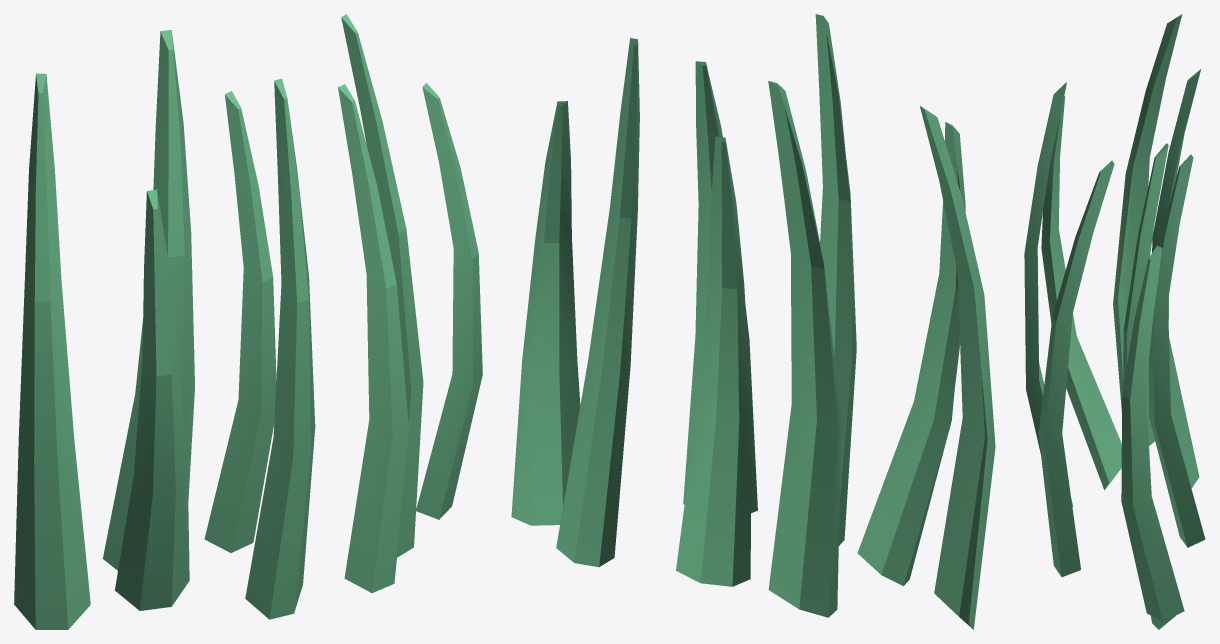
Rendered from grass.fbx.
The picture shows the model from 3 angles, left to right: view 1: azimuth 30°, elevation 25°; view 2: azimuth 150°, elevation 25°; view 3: azimuth 270°, elevation 25°; orthographic projection. The views are drawn at different scales.
Visible parts, largest first — view 1: polySurface10; view 2: polySurface10; view 3: polySurface10.
Boxes of the visible parts, x1=… form: polySurface10: x1=14, y1=14, x2=482, y2=629; polySurface10: x1=511, y1=14, x2=995, y2=629; polySurface10: x1=1024, y1=14, x2=1205, y2=629.
Size of the model in its own units: 5.28 by 6.1 by 2.13.
